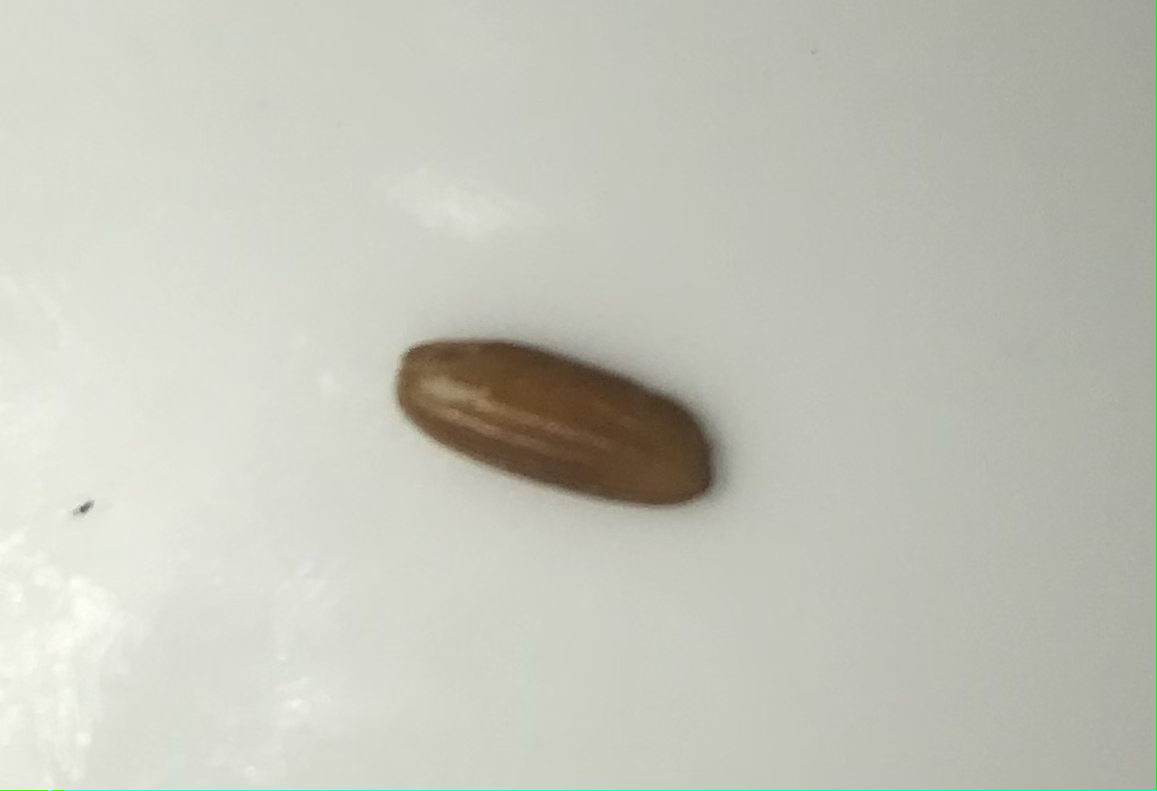Gao Lut Dien Bien: (382, 324, 718, 515)
